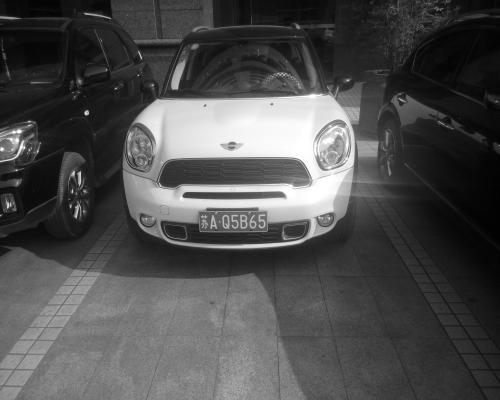Carplate: (195, 204, 273, 236)
